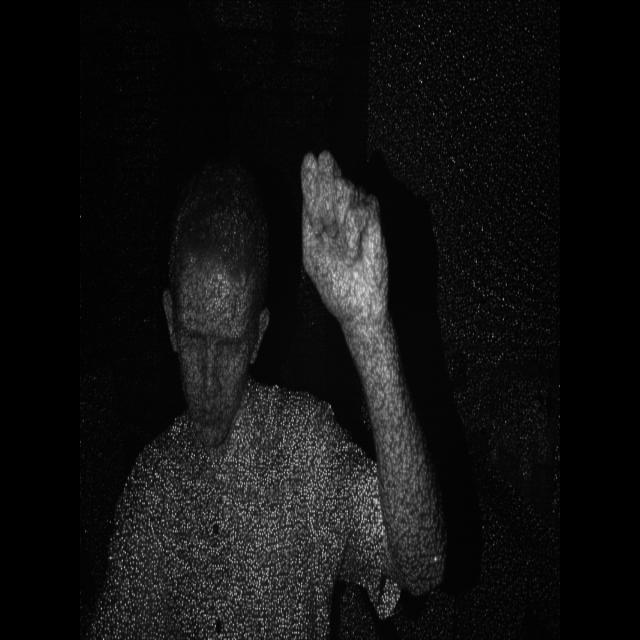N: (290, 130, 403, 354)
